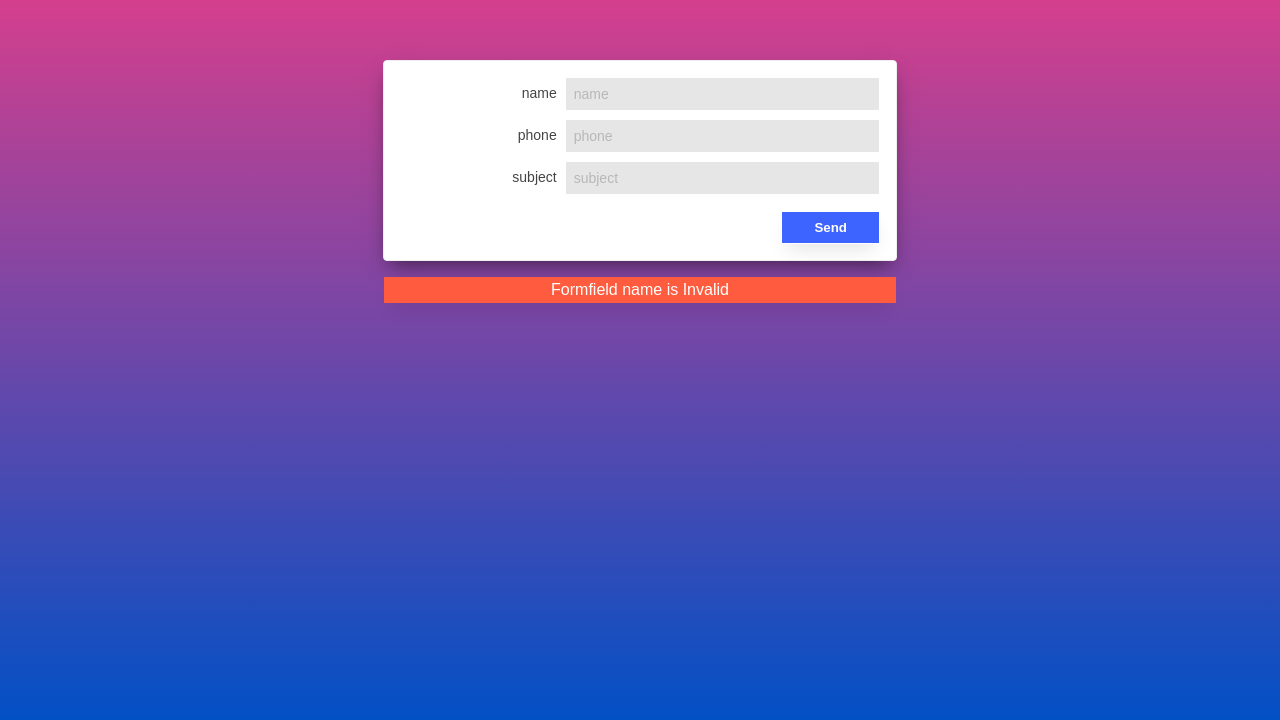
<App /> › validates the phone Field
Type "Invalid because Text" into the field labelled "phone".
click(722, 136); type("Invalid because Text")  # box [565,119,880,153]
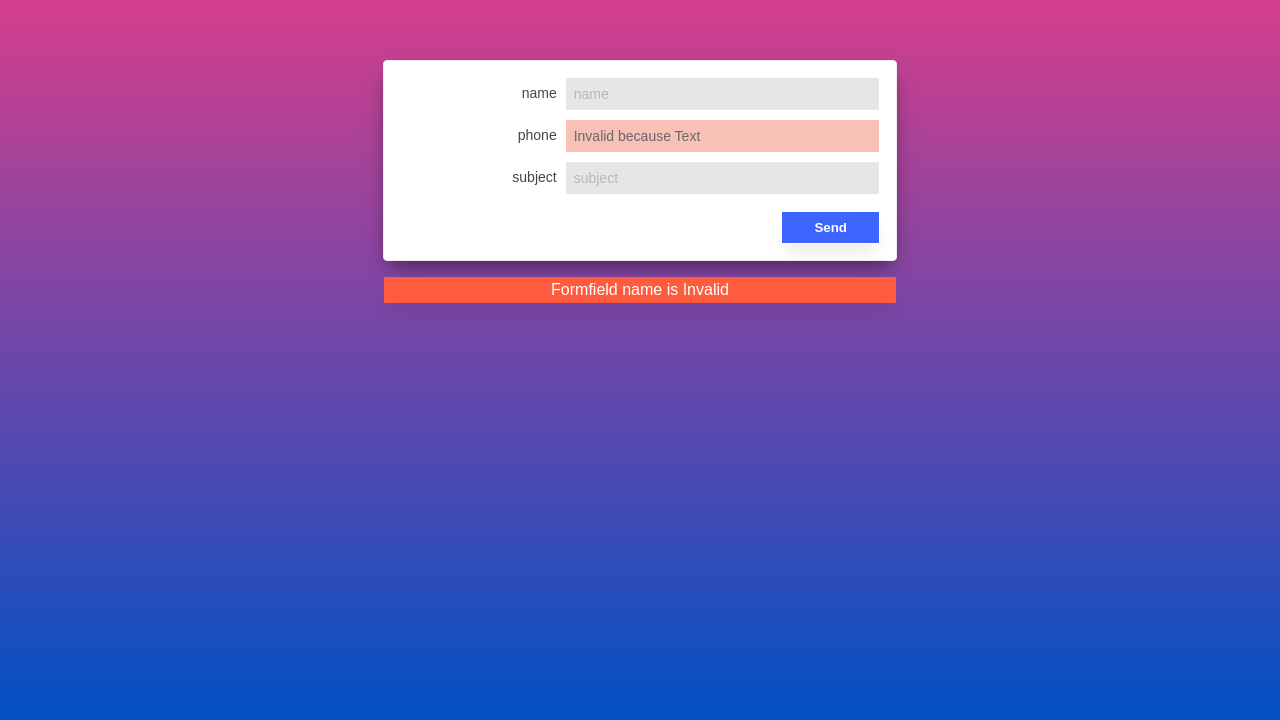
Click the button "Send".
click(831, 228)  # box [781,211,880,244]
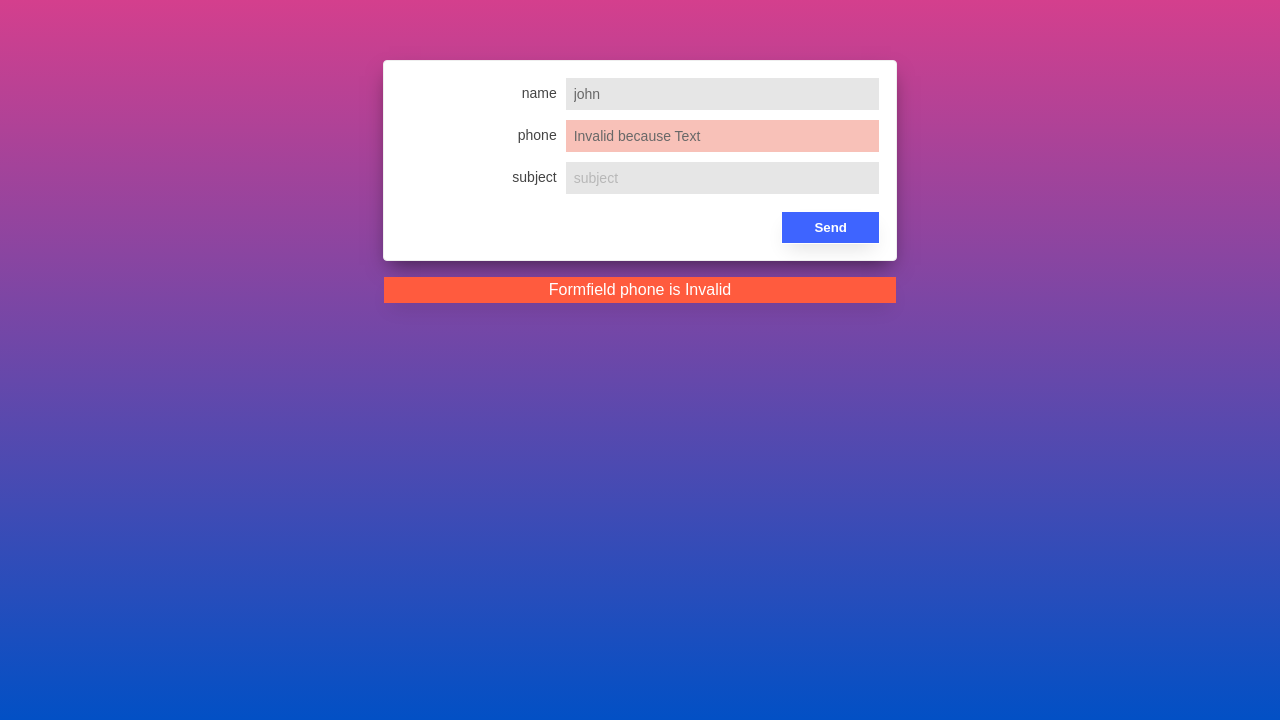
Expected: the text "Formfield phone is Invalid" is shown, [384,277,896,303]
